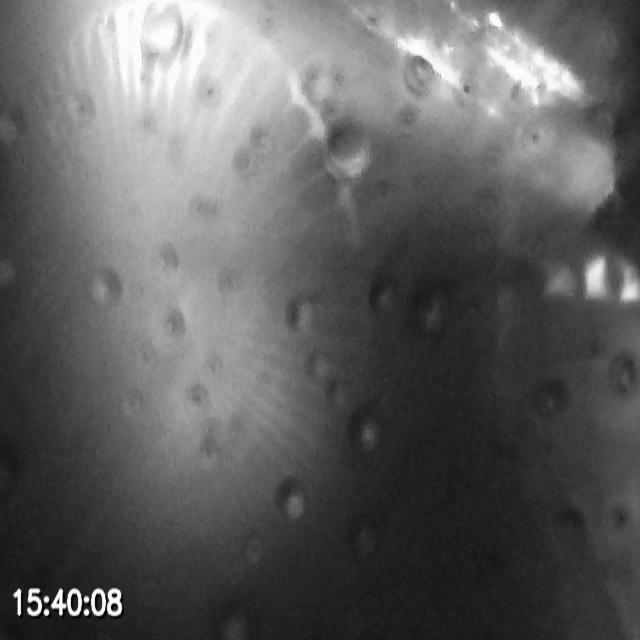white-dots: (544, 249, 640, 305)
